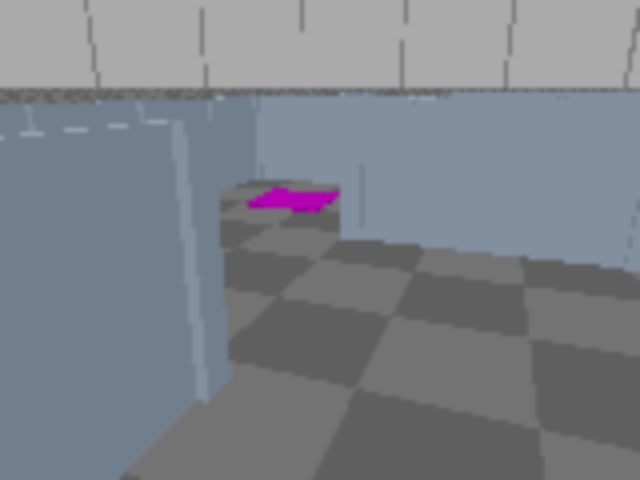goal_zone: (242, 189, 341, 212)
